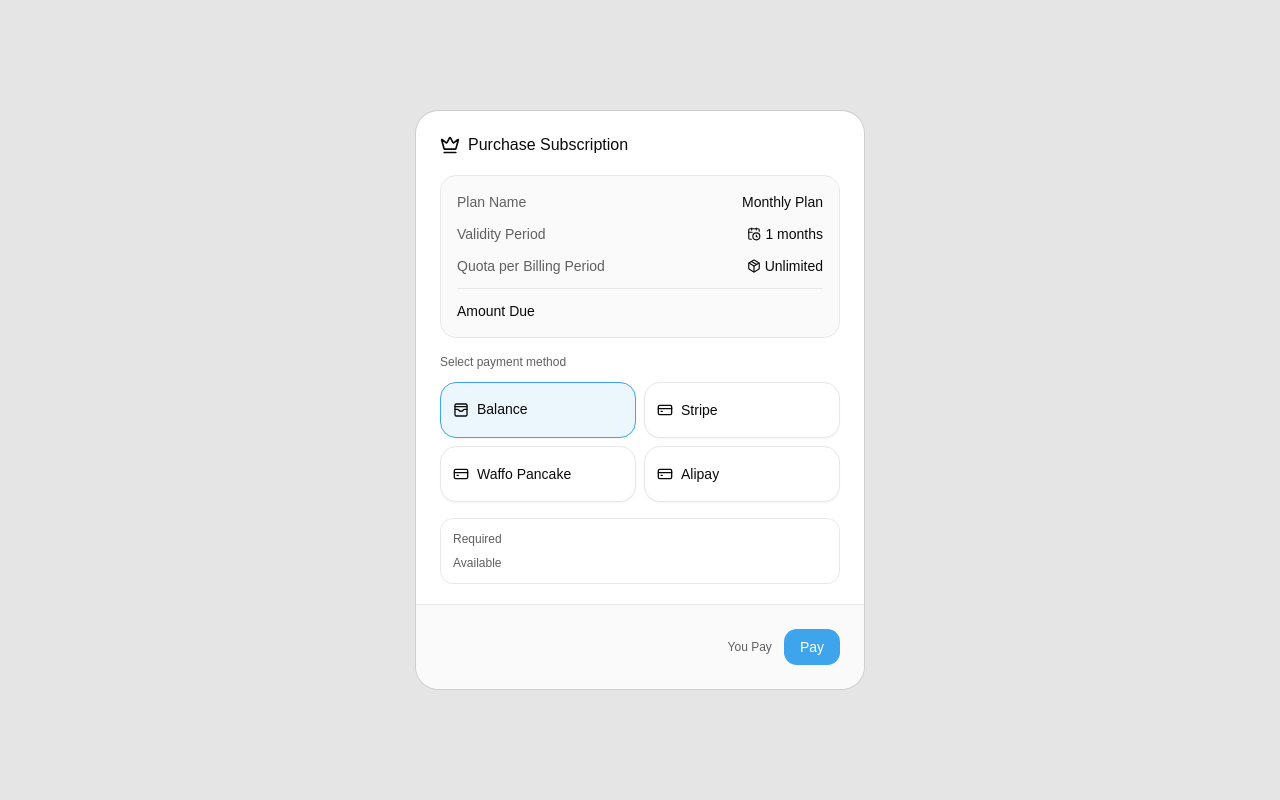
subscription payment selection › disables payment while quoting and after a quote failure
The image size is (1280, 800).
Click the button "Stripe".
click(742, 410)  # box [644, 382, 840, 438]
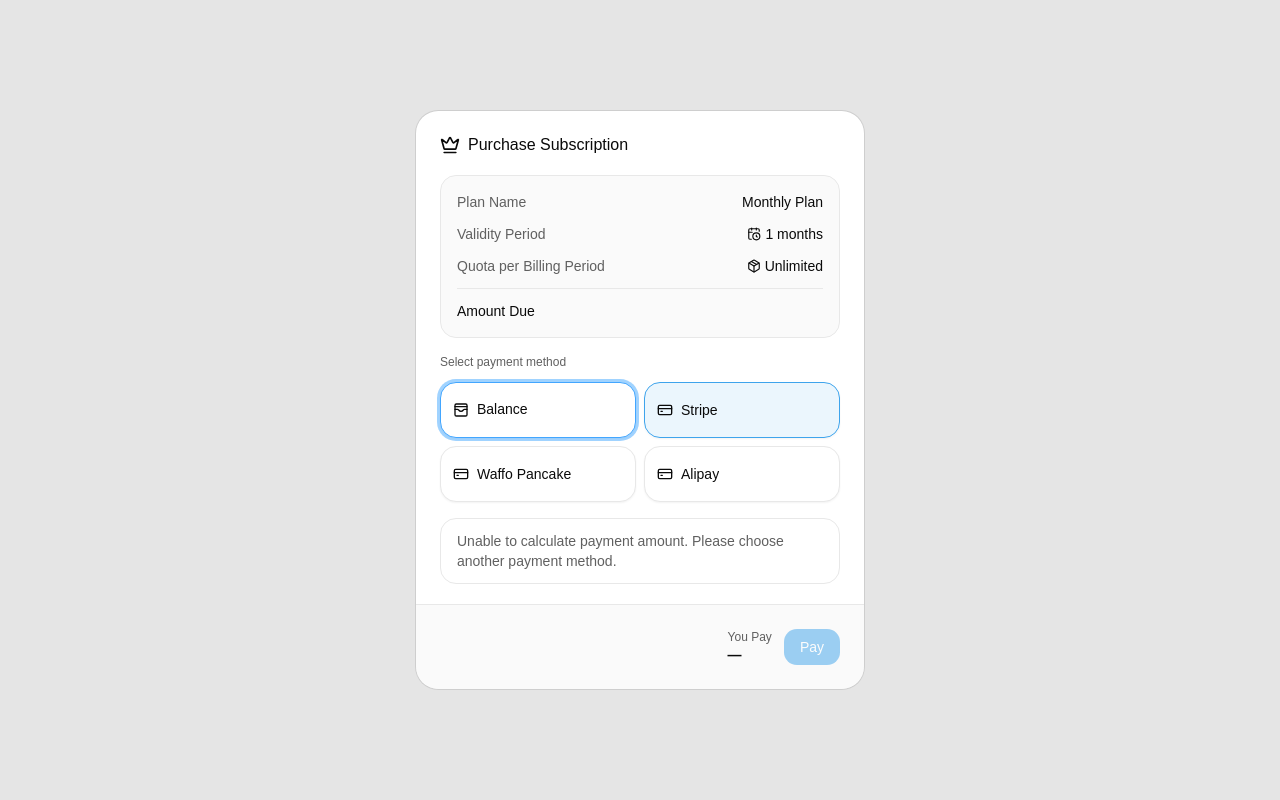
Check: the text "Unable to calculate payment amount. Please choose another payment method." is shown, box [457, 531, 823, 571]
Check: the button "Pay" is disabled, box [784, 629, 840, 665]
